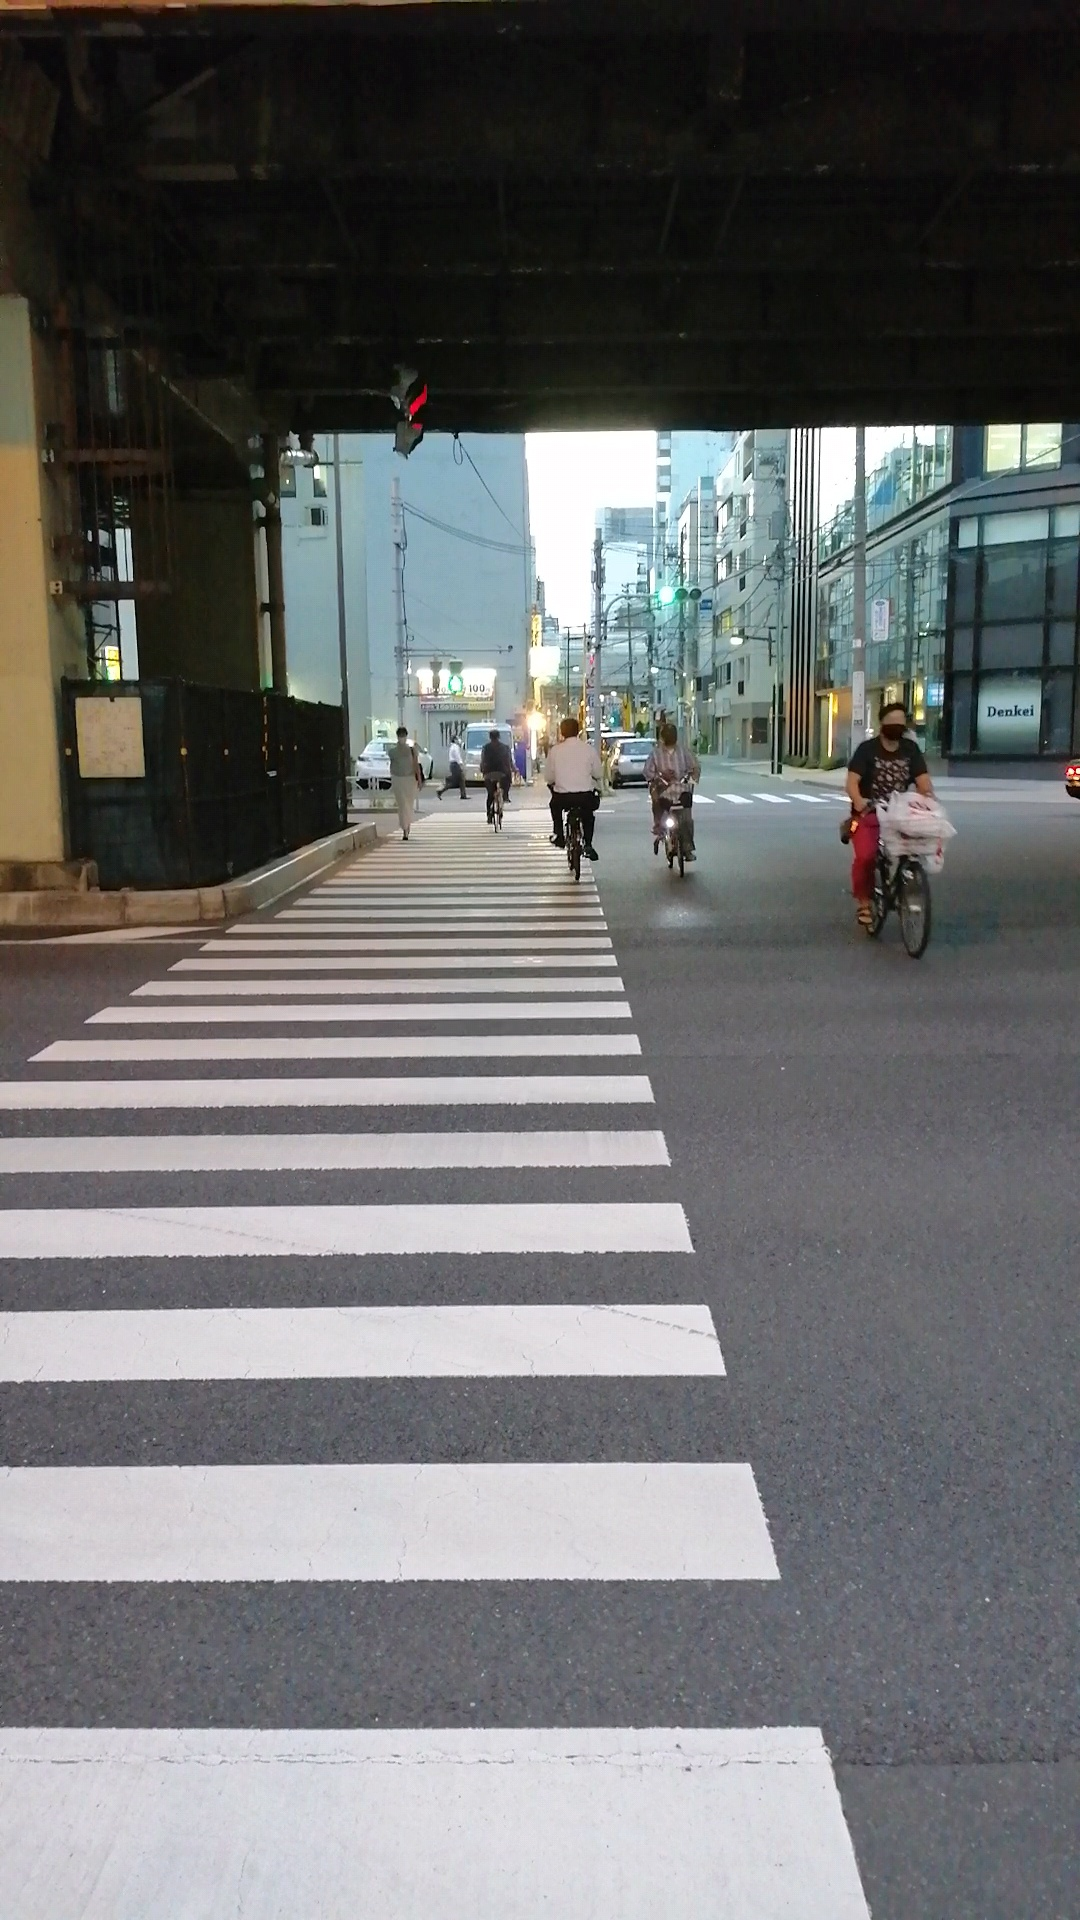green: (444, 659, 464, 699)
